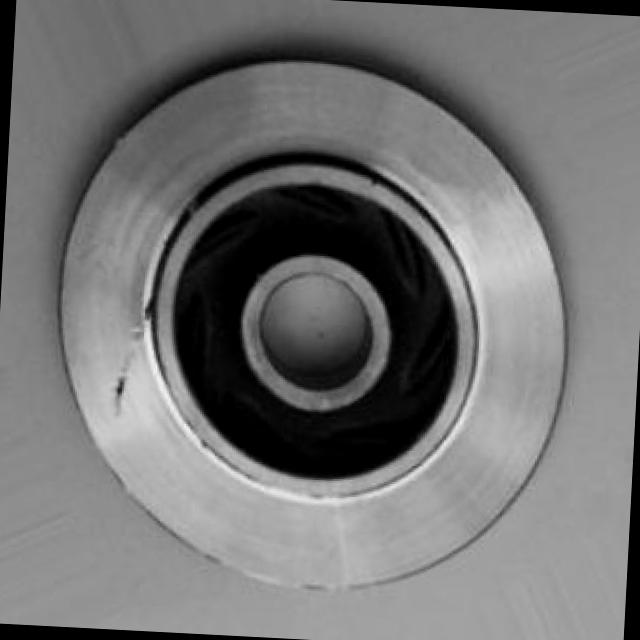Defect: (96, 358, 147, 423)
